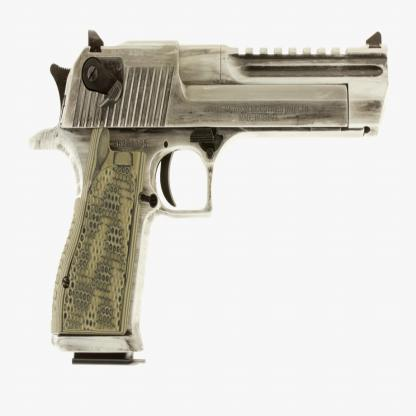Pistol: (27, 26, 388, 368)
